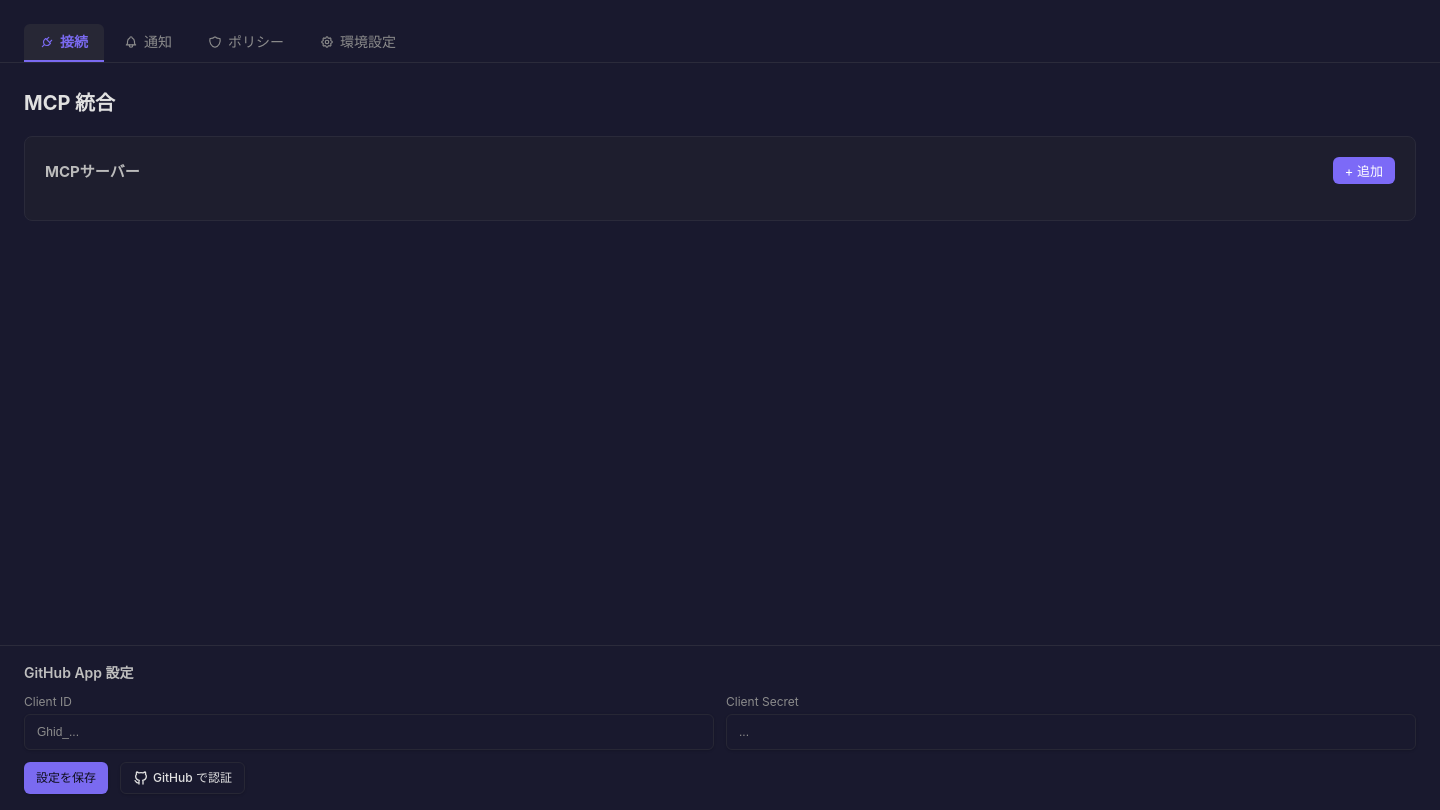
Test: SettingsScreen › 通知がブロック済みの場合ブロックメッセージが表示される
Click the button "通知" at (148, 43), box [108,24,188,62]
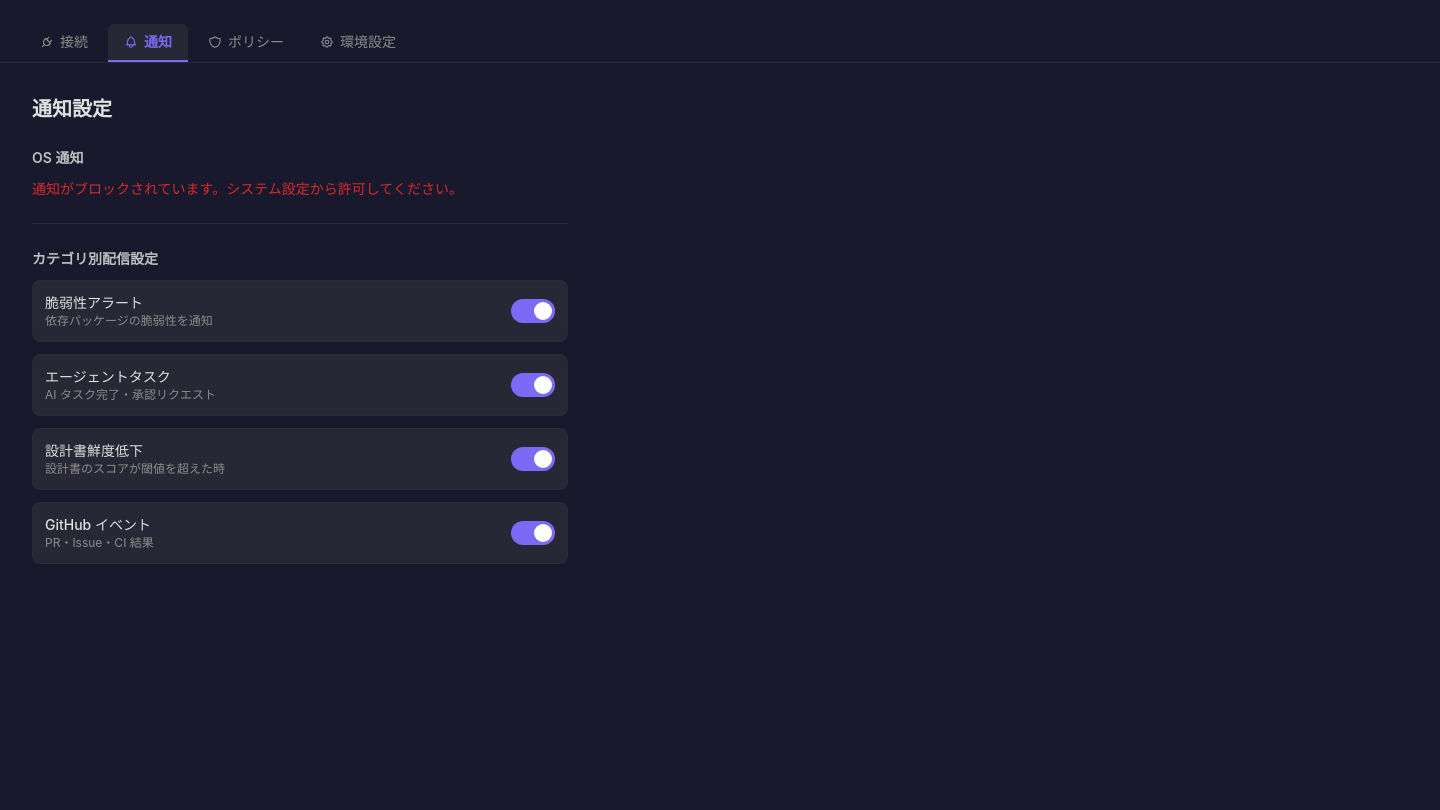
Expected: the text "通知がブロックされています。システム設定から許可してください。" is shown, [32,180,463,197]
